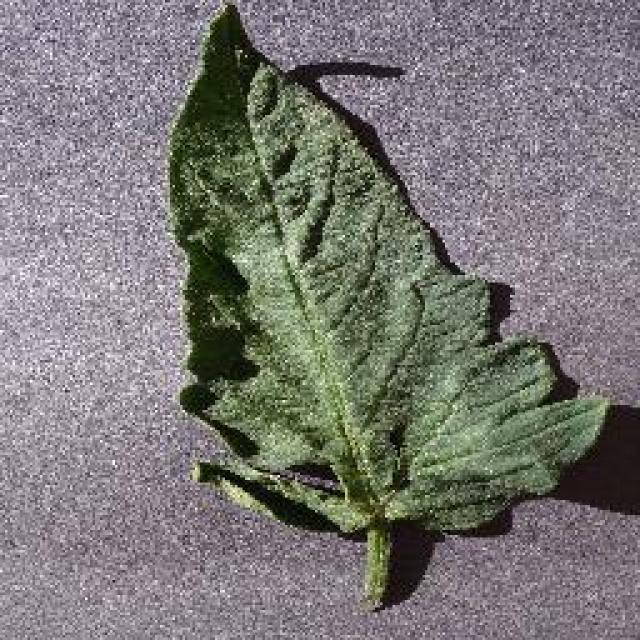Tomato_Healthy: (142, 4, 632, 561)
